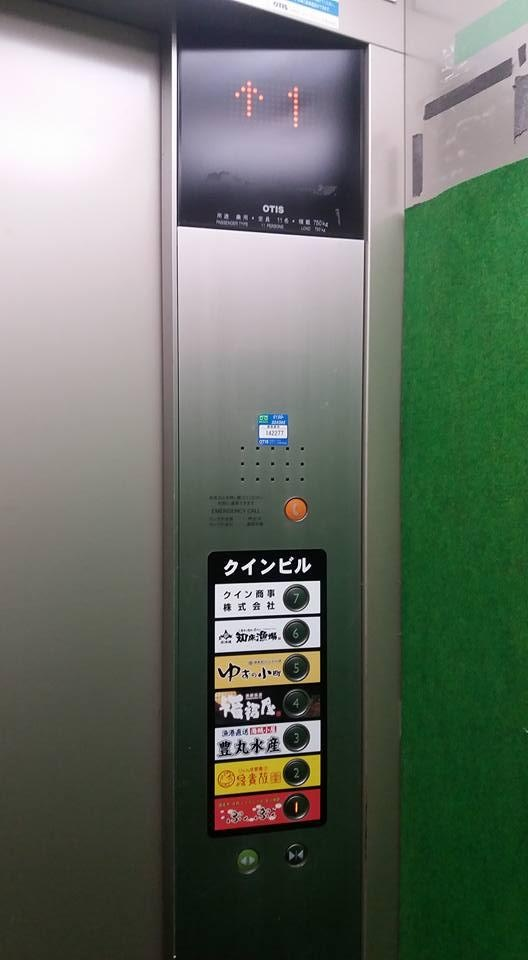1: (282, 791, 311, 822)
2: (281, 757, 312, 788)
3: (281, 723, 312, 753)
4: (281, 688, 314, 720)
5: (282, 653, 312, 683)
6: (280, 618, 312, 648)
7: (281, 583, 312, 613)
call: (280, 494, 313, 526)
close: (281, 841, 310, 873)
led: (168, 14, 374, 247)
open: (234, 847, 260, 876)
